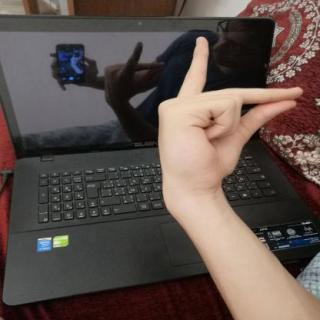TAA: (144, 30, 311, 203)
